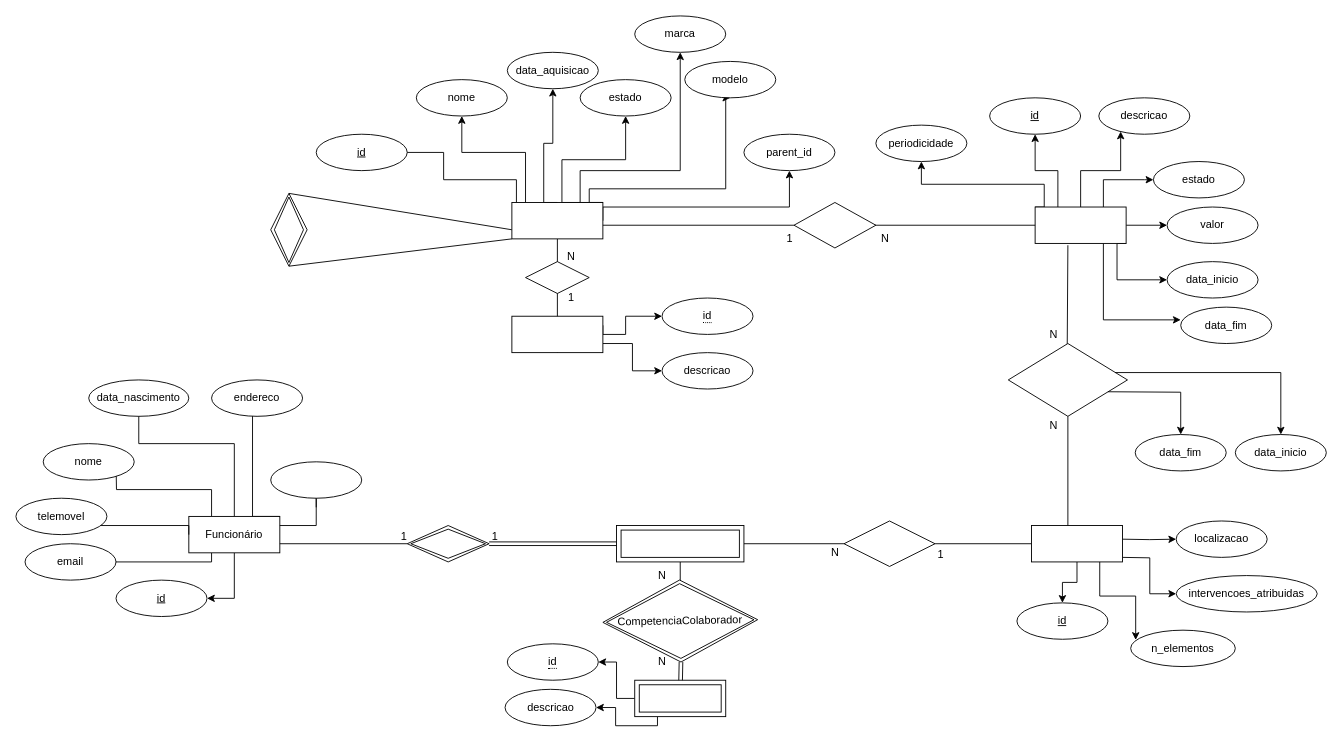
The diagram is 1342 pixels wide and 749 high, and some of its shapes have lost their labels. Here are the shapes that lost their labels. From the top down, the centre of each, then its label:
At point 557,220: "Ativo".
At point 1080,224: "Intervencao".
At point 557,334: "Tipo".
At point 1067,379: "IntervencaoEquipa".
At point 316,479: "profissao".
At point 680,543: "ColaboradorEquipa".
At point 1076,543: "Equipa".
At point 680,698: "Competência".
